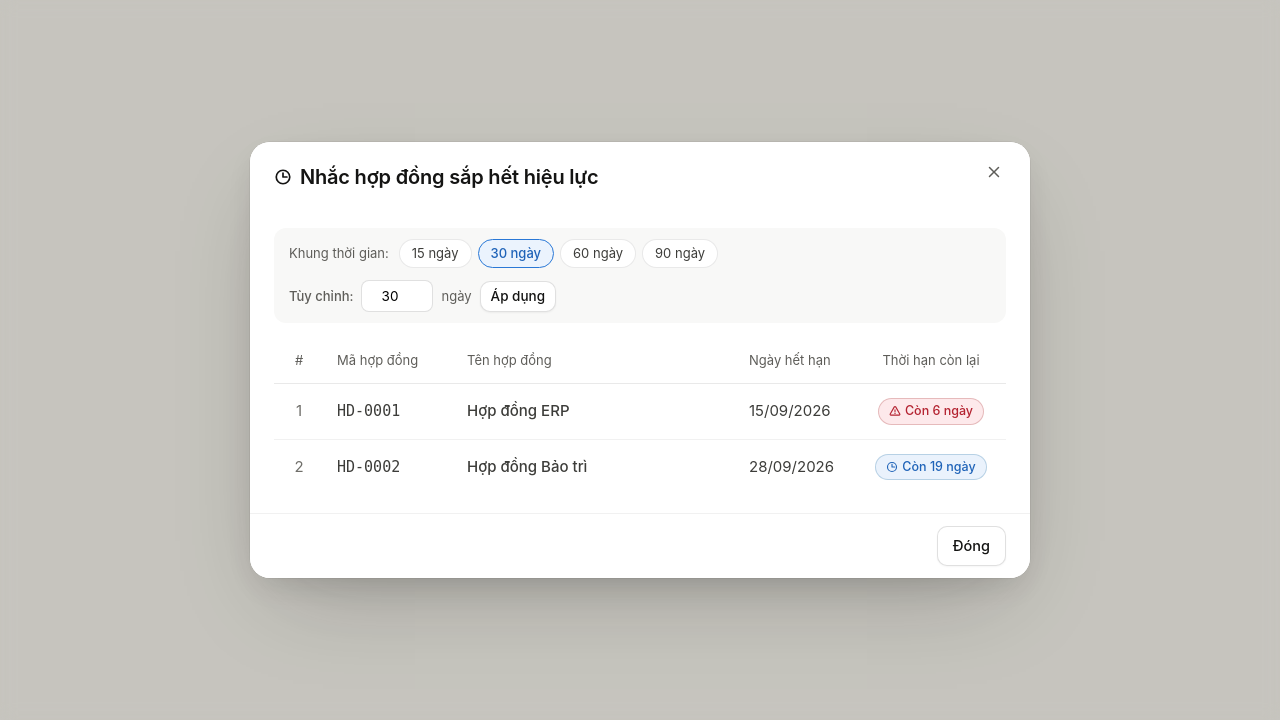
Test: ContractExpiryReminderModal (NCL-04-CN-006) › TC-04: cho phép đổi khung thời gian bằng nút preset hoặc nhập tùy chỉnh và chặn số âm
# Bấm nút preset 15 ngày
Click the button "15 ngày" at (435, 254), box [399,239,472,268]
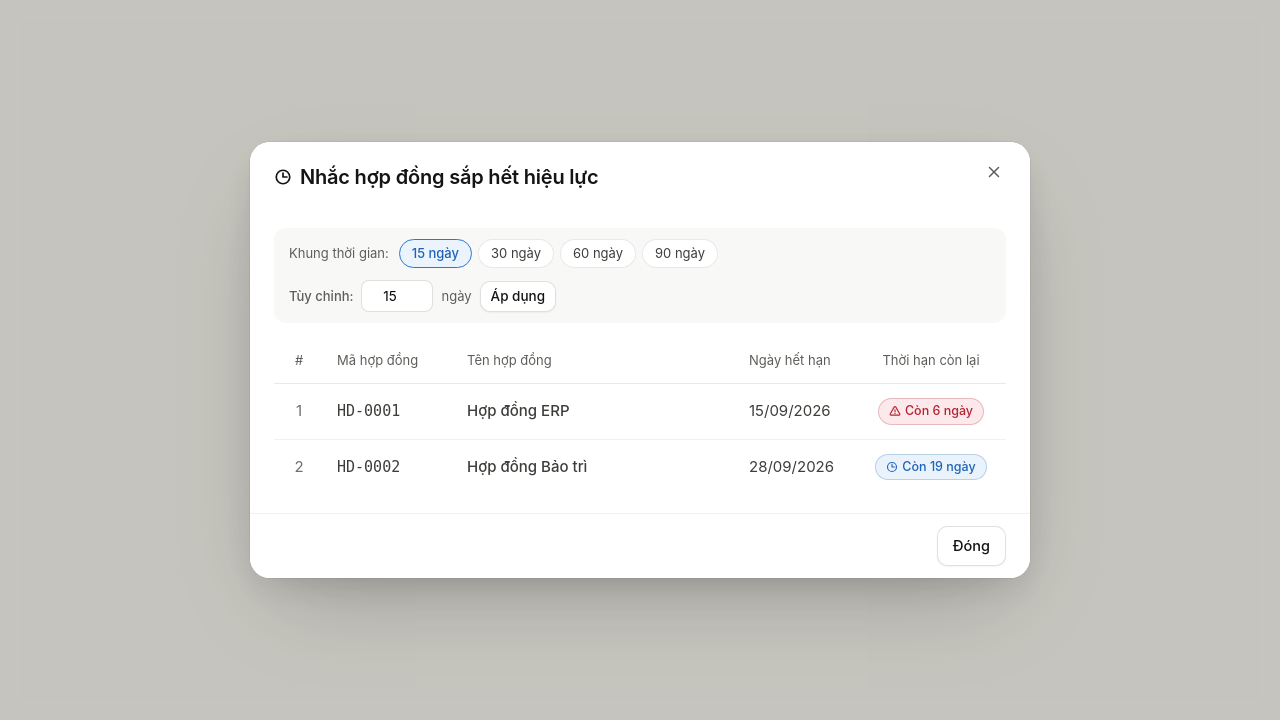
# Nhập số ngày tùy chỉnh 45 ngày
Replace the text in the number field named "Số ngày rà soát" with "45" at (398, 296), box [362,280,434,312]
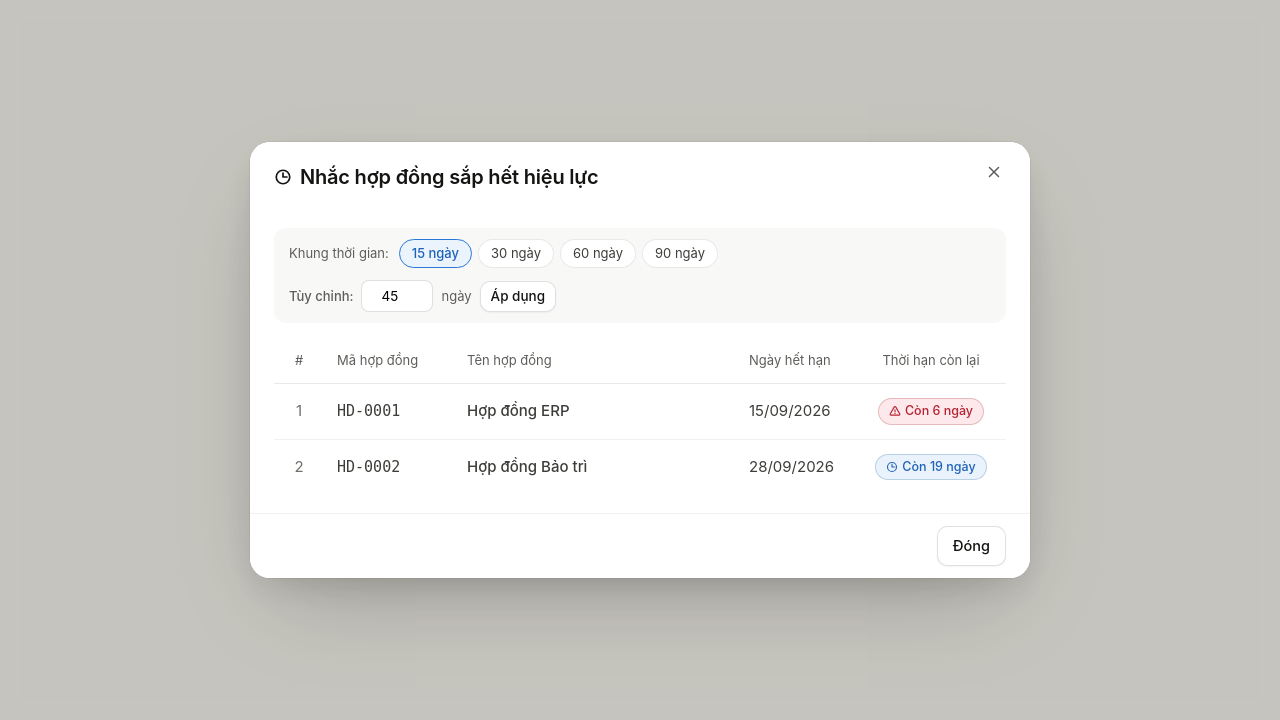
Click the button "Áp dụng" at (518, 296), box [480,281,556,312]
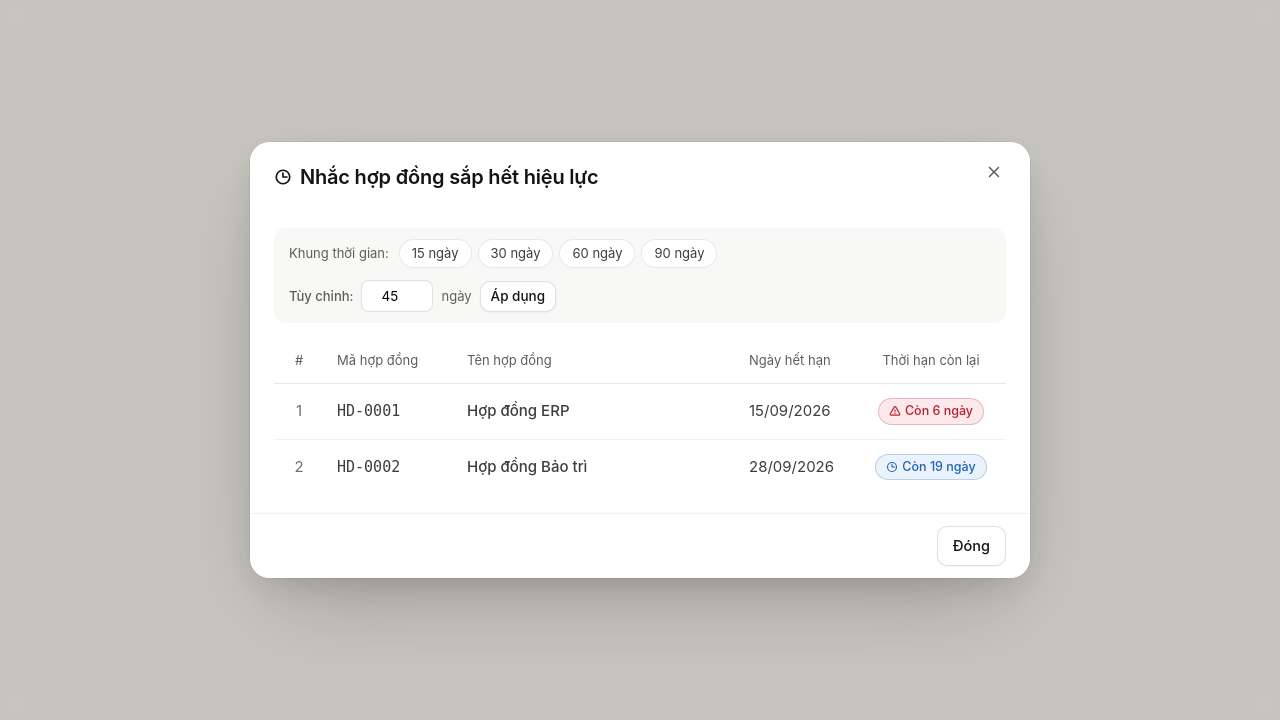
Replace the text in the number field named "Số ngày rà soát" with "-5" at (398, 296), box [362,280,434,312]
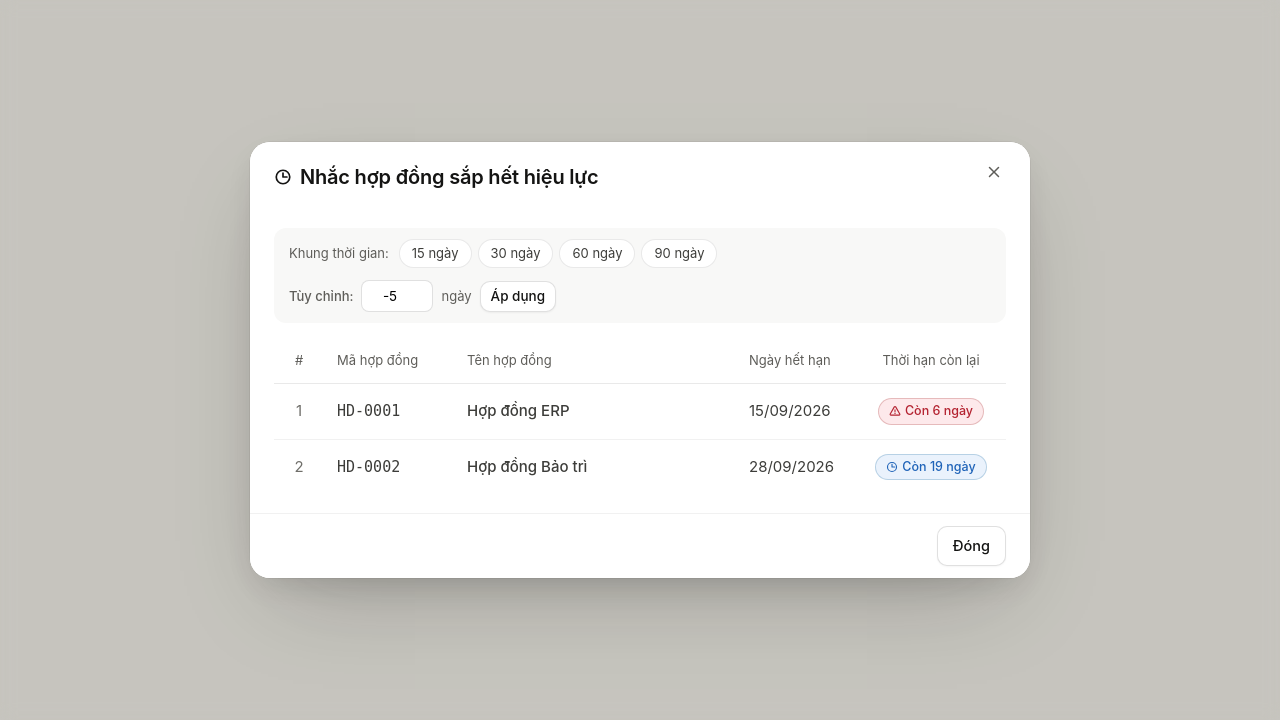
Click the button "Áp dụng" at (518, 296), box [480,281,556,312]
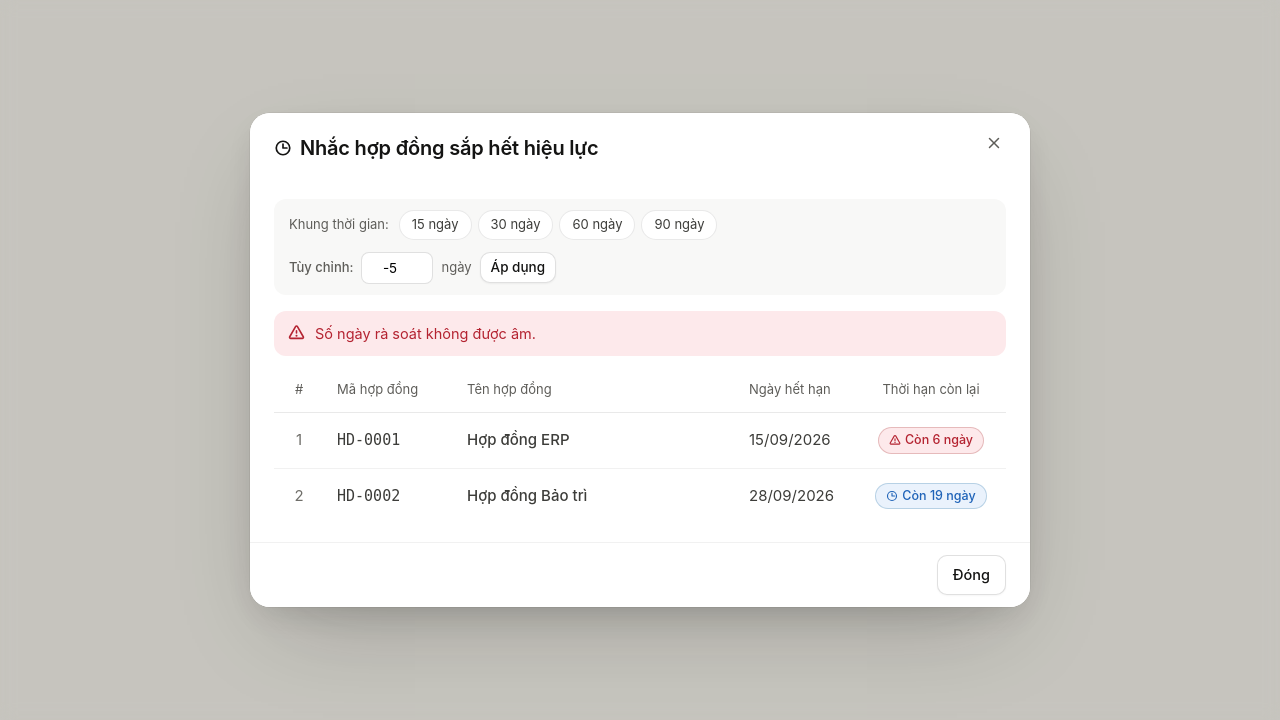
Now the text "Số ngày rà soát không được âm." is shown, box [315,324,536,342]
